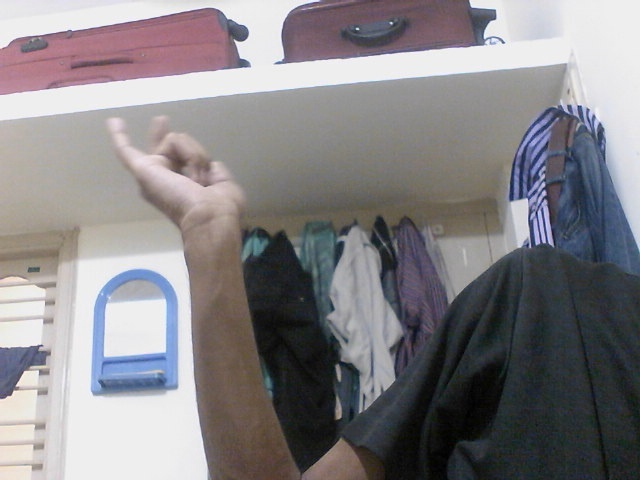hand: (102, 109, 249, 235)
